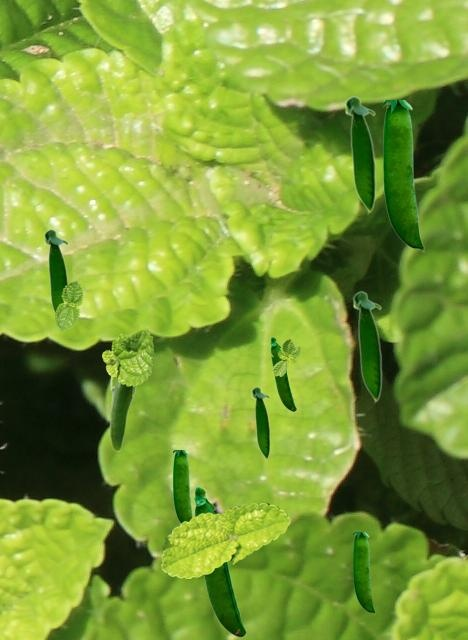pea: (193, 485, 245, 636), (383, 100, 423, 251), (344, 95, 375, 214), (352, 290, 381, 403), (43, 228, 68, 314), (109, 377, 137, 451), (270, 336, 295, 410), (353, 532, 374, 613), (173, 450, 192, 522), (251, 386, 269, 460)
